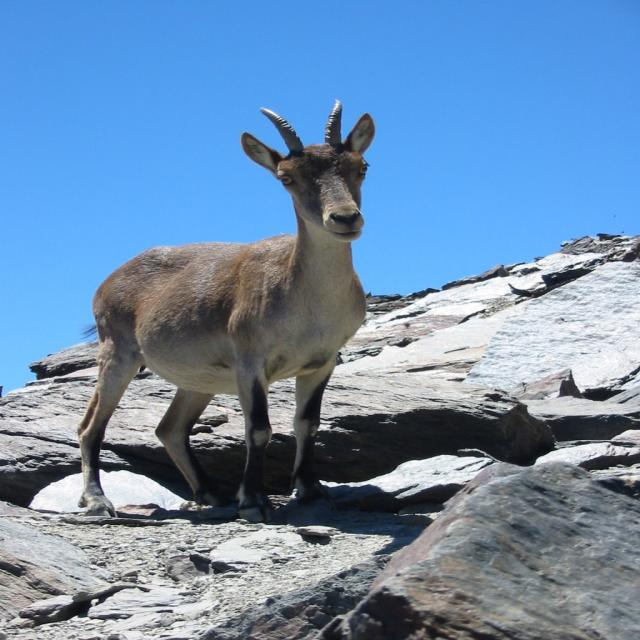Goat: (77, 99, 376, 523)
